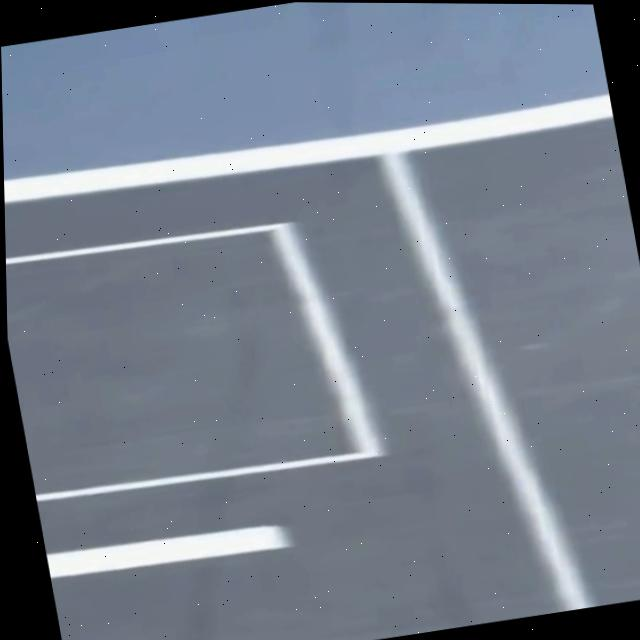center: (45, 525, 290, 578)
left: (4, 93, 614, 203)
